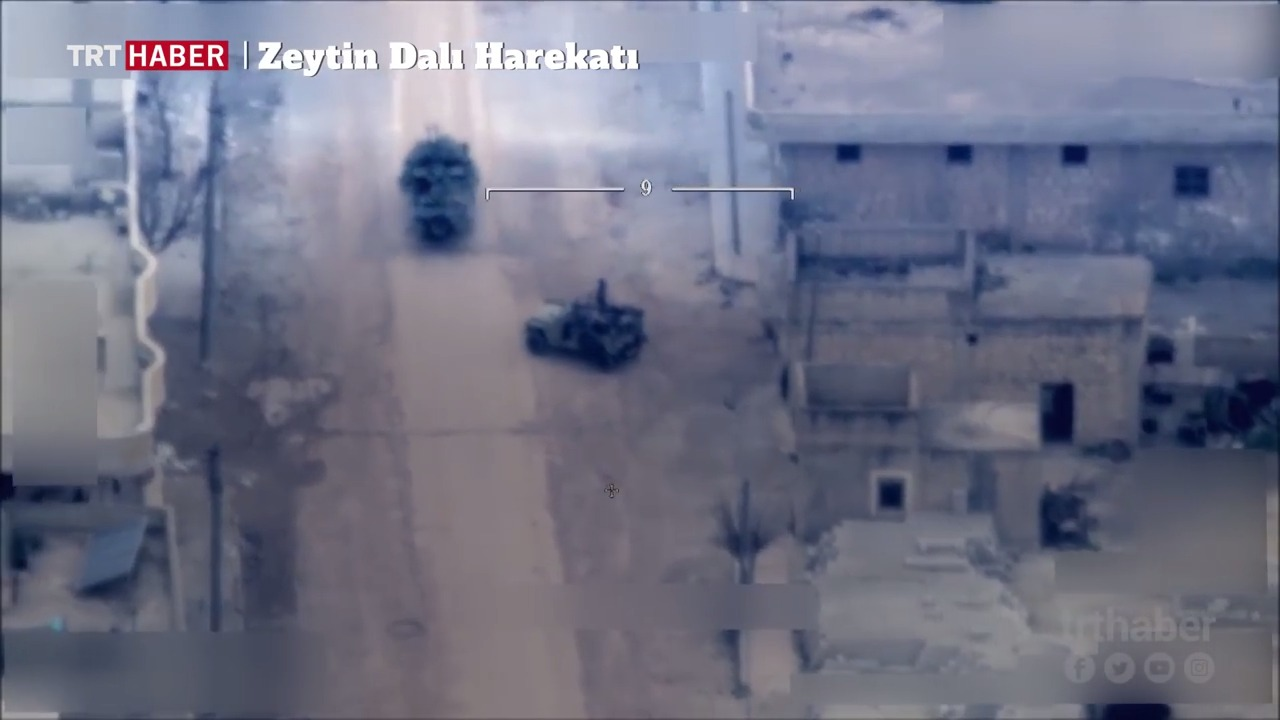arac: (401, 112, 475, 245), (526, 300, 651, 360)
bina: (759, 263, 1173, 463)
insan: (584, 272, 616, 303)
